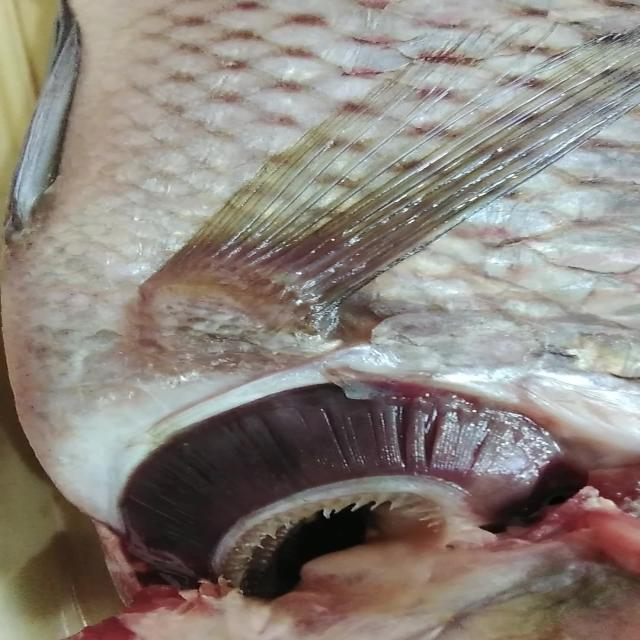Non-Fresh: (103, 376, 551, 596)
